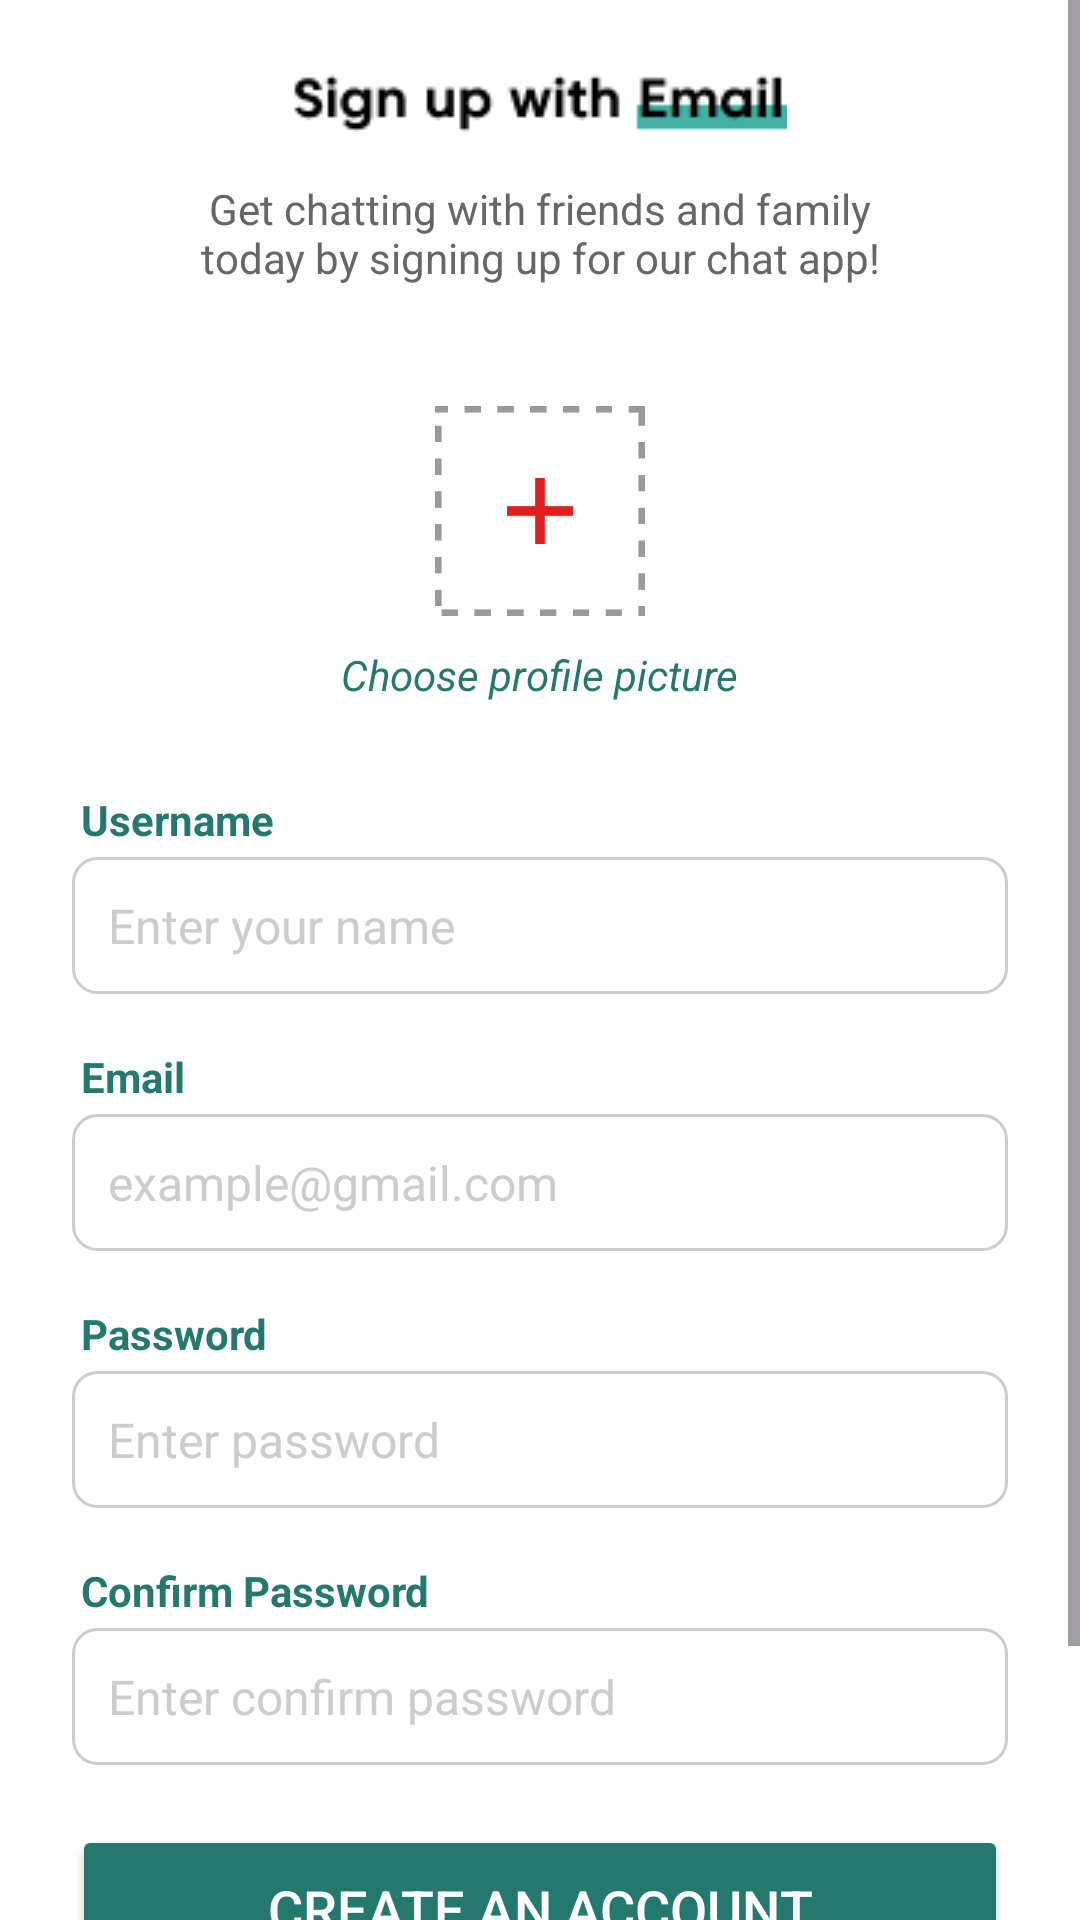

Where icons sit on this 1080×1920 app screen, as (x1, y1, x2, y2):
add: (435, 406, 645, 616)
